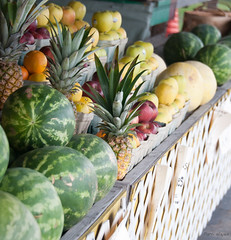Pineapple: (89, 44, 146, 183)
